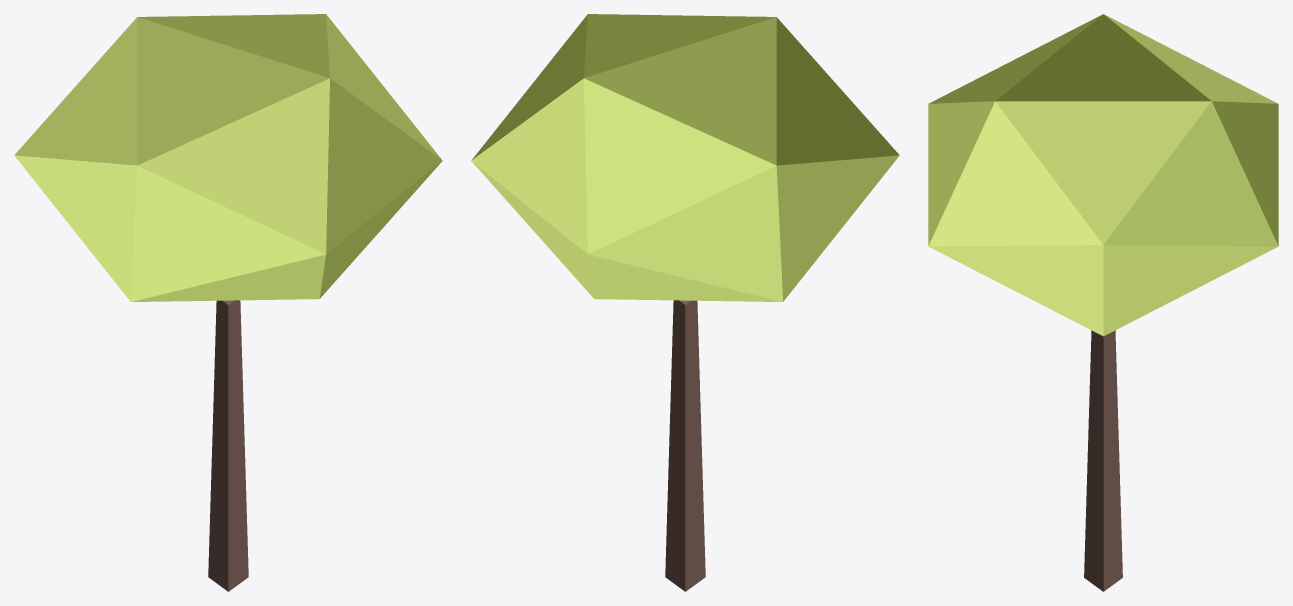
The model's file is olive_meadow_far.glb.
3 renders of one model, left to right at view 1: azimuth 30°, elevation 25°; view 2: azimuth 150°, elevation 25°; view 3: azimuth 270°, elevation 25°, orthographic. The views are drawn at different scales.
Visible parts, largest first — view 1: olive_meadow_far; view 2: olive_meadow_far; view 3: olive_meadow_far.
Boxes of the visible parts, x1,y1,x2,y2 form: olive_meadow_far: (14,14,442,591); olive_meadow_far: (471,14,899,591); olive_meadow_far: (928,14,1278,591).
Bounding box in the file's own units: 1.87 × 3.08 × 1.87.
